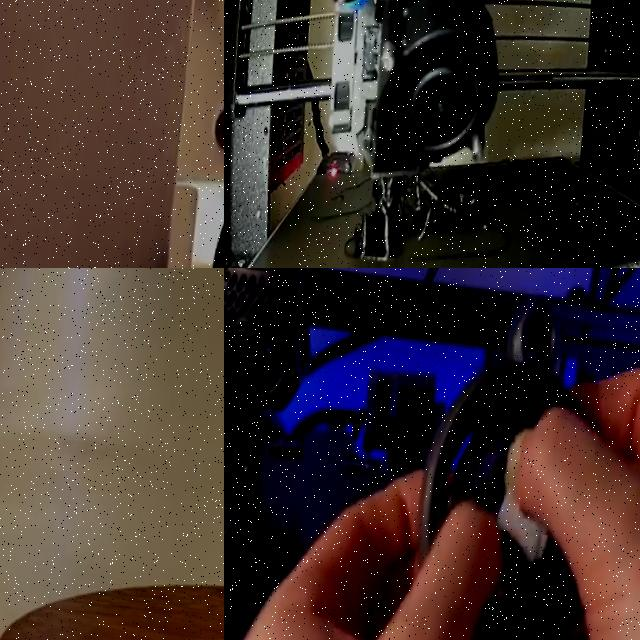spaghetti: (399, 166, 488, 248)
